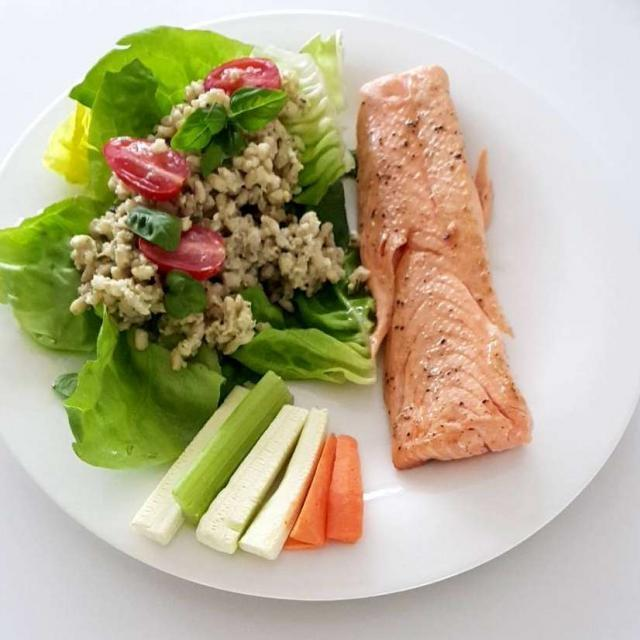carrot: (289, 430, 358, 545)
salad: (9, 26, 361, 466)
salmon: (355, 70, 530, 463)
zucchini: (139, 369, 327, 551)
